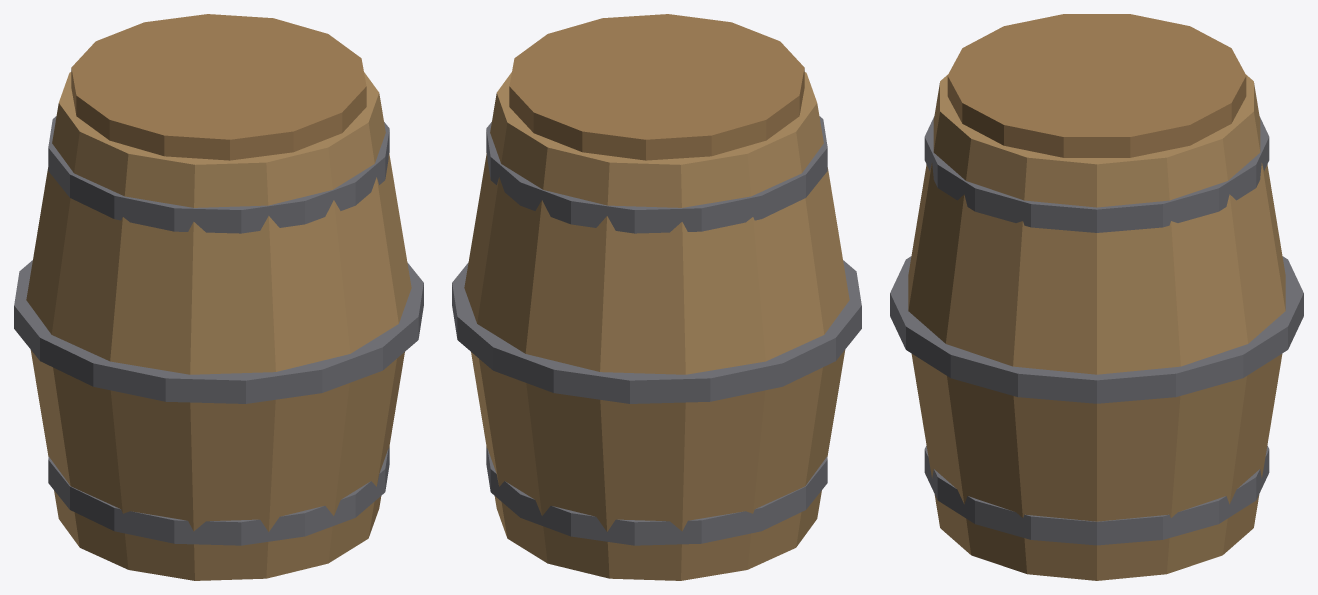
File: barrel.glb
3 views of the same model, side by side, from view 1: azimuth 30°, elevation 25°; view 2: azimuth 150°, elevation 25°; view 3: azimuth 270°, elevation 25° (orthographic).
Visible parts, largest first — view 1: Barrel, Cylinder.003, Cylinder.001, Cylinder.002, Cylinder; view 2: Barrel, Cylinder.003, Cylinder.001, Cylinder.002, Cylinder; view 3: Barrel, Cylinder.003, Cylinder.001, Cylinder.002, Cylinder.
Boxes of the visible parts, x1,y1,x2,y2 form: Barrel: [26, 72, 411, 580]; Cylinder.003: [71, 14, 366, 160]; Cylinder.001: [14, 260, 423, 403]; Cylinder.002: [48, 116, 389, 233]; Cylinder: [48, 446, 389, 545]; Barrel: [464, 72, 849, 580]; Cylinder.003: [509, 14, 804, 160]; Cylinder.001: [452, 260, 861, 403]; Cylinder.002: [486, 116, 827, 233]; Cylinder: [486, 446, 827, 545]; Barrel: [908, 74, 1285, 580]; Cylinder.003: [947, 14, 1246, 157]; Cylinder.001: [890, 256, 1303, 403]; Cylinder.002: [924, 116, 1269, 232]; Cylinder: [924, 445, 1269, 545].
Bounding box in the file's own units: 0.72 × 0.84 × 0.72.
